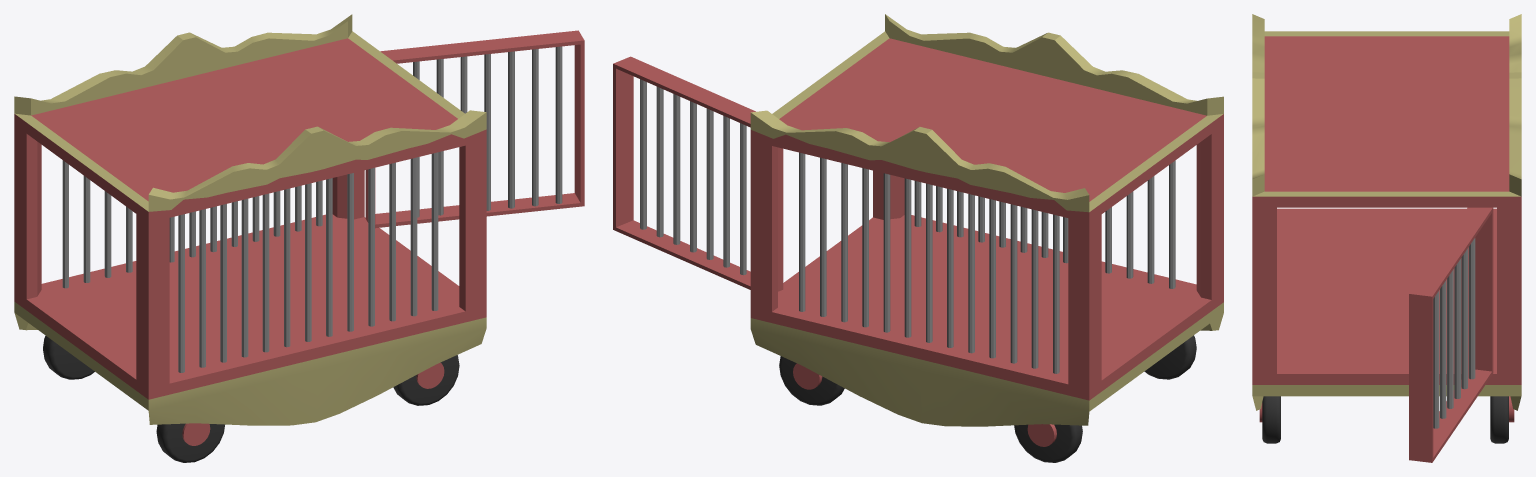
The model's file is CircusCart_Open.fbx.
The picture shows the model from 3 angles, left to right: view 1: azimuth 30°, elevation 25°; view 2: azimuth 150°, elevation 25°; view 3: azimuth 270°, elevation 25°; orthographic projection.
Parts seen in each view (by area): view 1: CartOpenShape; view 2: CartOpenShape; view 3: CartOpenShape.
Part boxes in pixels (x1,y1,x2,y2): CartOpenShape: (14, 14, 584, 462); CartOpenShape: (613, 14, 1223, 462); CartOpenShape: (1252, 14, 1521, 462).
Bounding box in the file's own units: 4.92 × 2.78 × 2.2.
